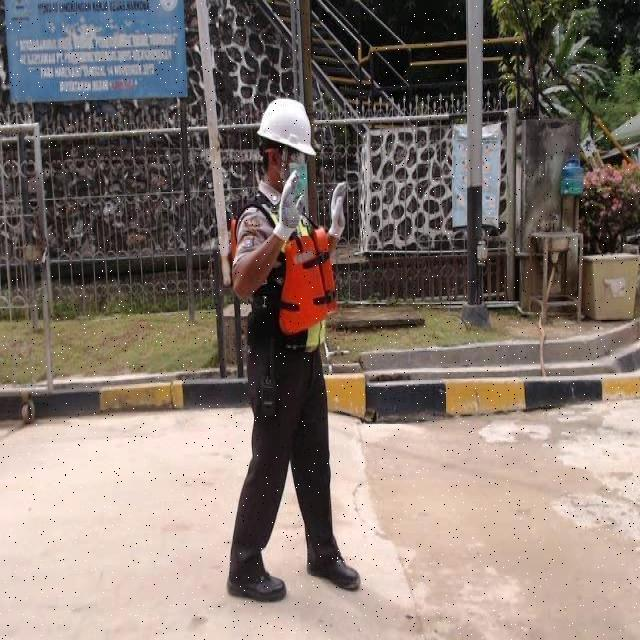Hard_hat: (251, 103, 321, 162)
Person: (233, 99, 346, 608)
Vest: (277, 223, 332, 342)
